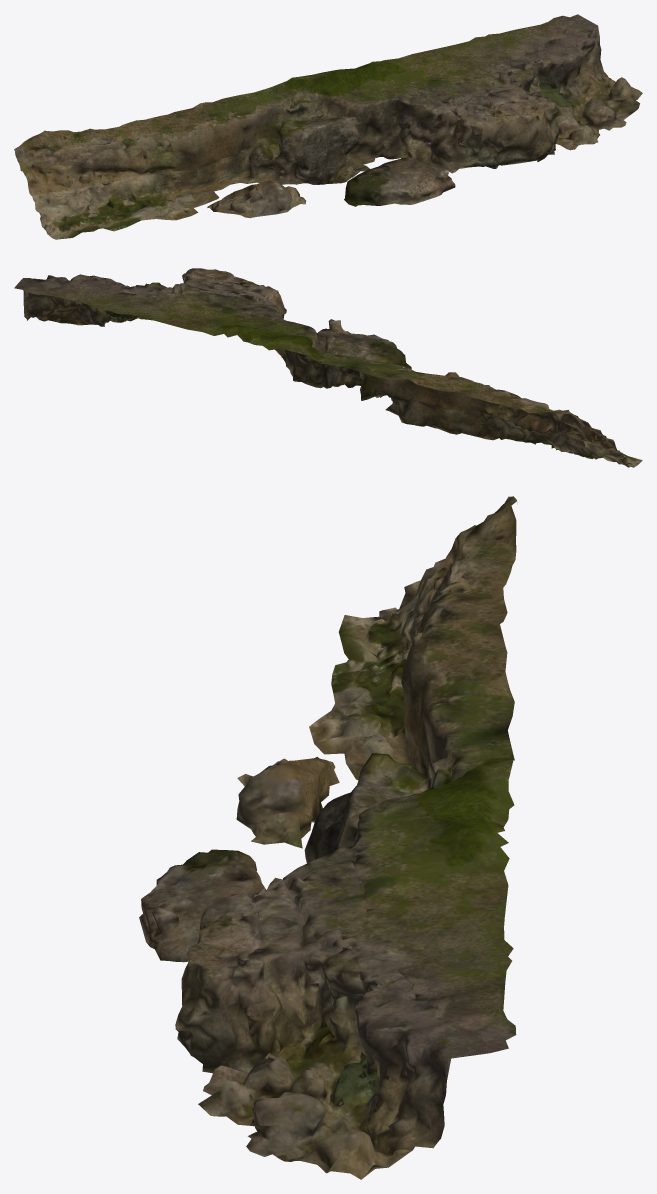
File: cliff2.glb
The picture shows the model from 3 angles, top to bottom: view 1: azimuth 30°, elevation 25°; view 2: azimuth 150°, elevation 25°; view 3: azimuth 270°, elevation 25°; orthographic projection. The views are drawn at different scales.
Parts seen in each view (by area): view 1: coastal_cliff_04; view 2: coastal_cliff_04; view 3: coastal_cliff_04.
Part boxes in pixels (box(x1,y1,x2,y2)): coastal_cliff_04: box(14, 14, 642, 239); coastal_cliff_04: box(14, 268, 642, 467); coastal_cliff_04: box(139, 496, 516, 1179).
Size of the model in its own units: 86.77 by 10.98 by 24.23.
Materials: 1 (1 with a texture image).
